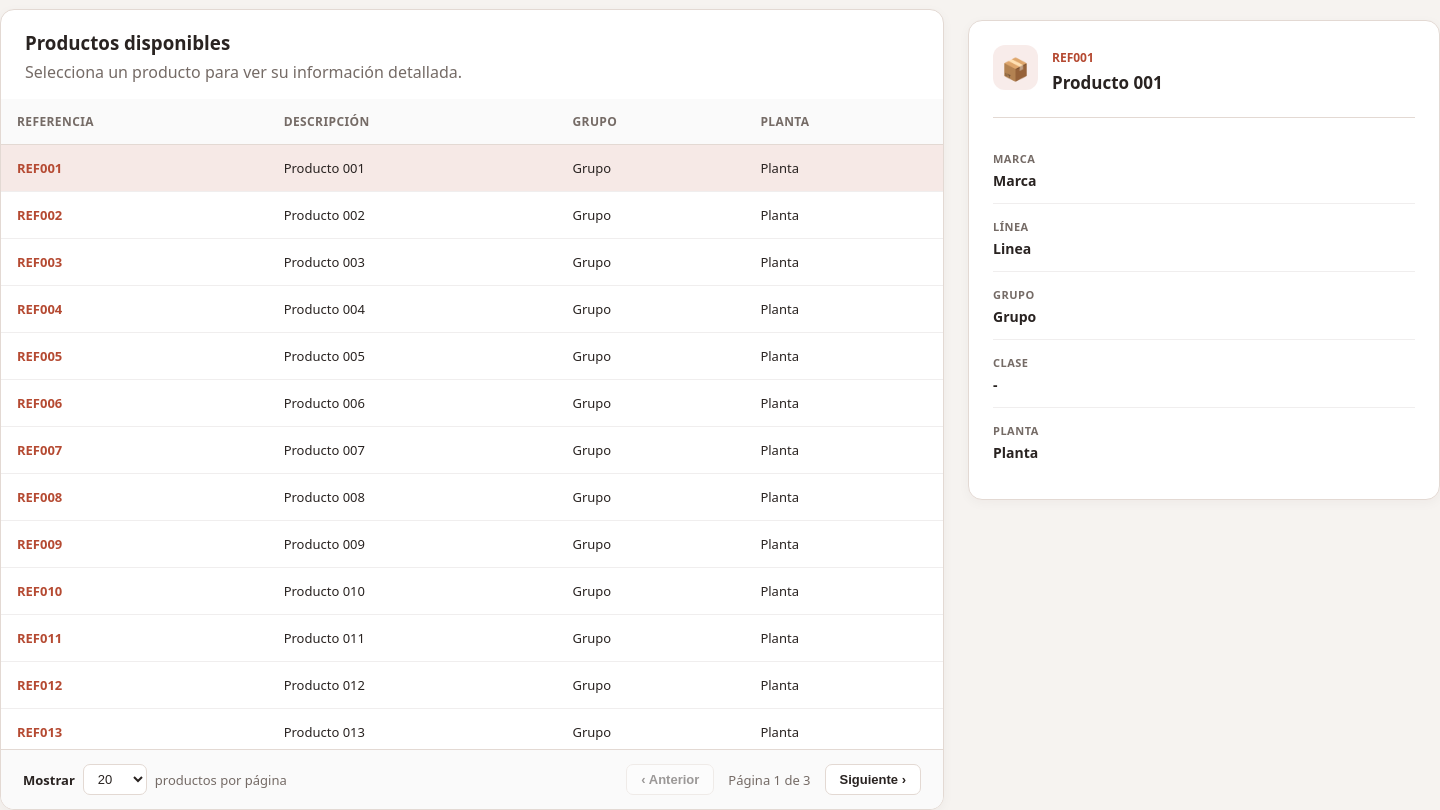
it: Productos › paginación › al cambiar el tamaño de página, actualiza la cantidad de filas y vuelve a la página 1
This screenshot has width=1440, height=810.
(page scrolled)
Click the button "Siguiente ›" at x=873, y=780, box [824, 764, 921, 795]
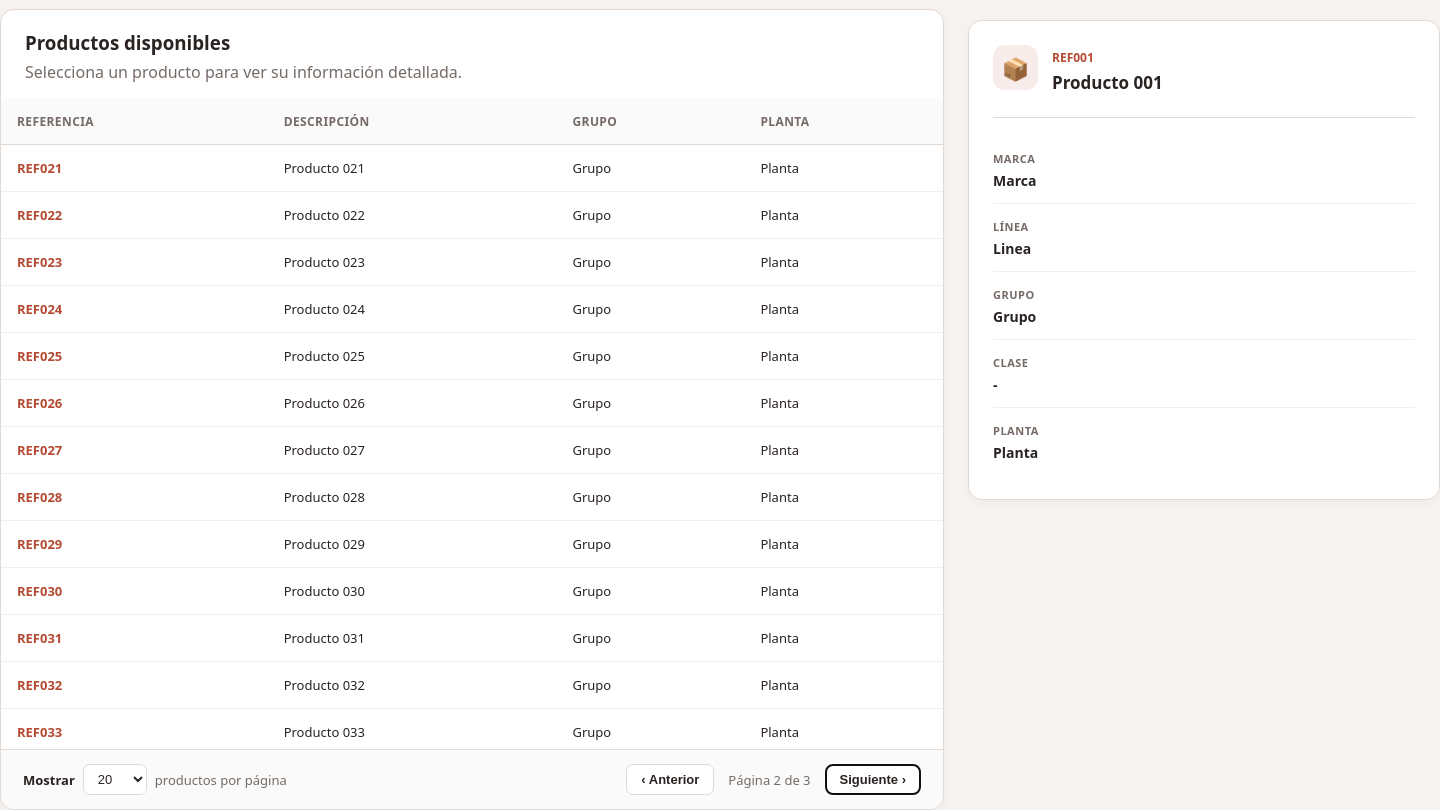
Now the text "Página 2 de 3" is shown, box [728, 770, 811, 788]
Select "50" in the dropdown labelled "Mostrar" at x=115, y=780, box [83, 764, 147, 795]
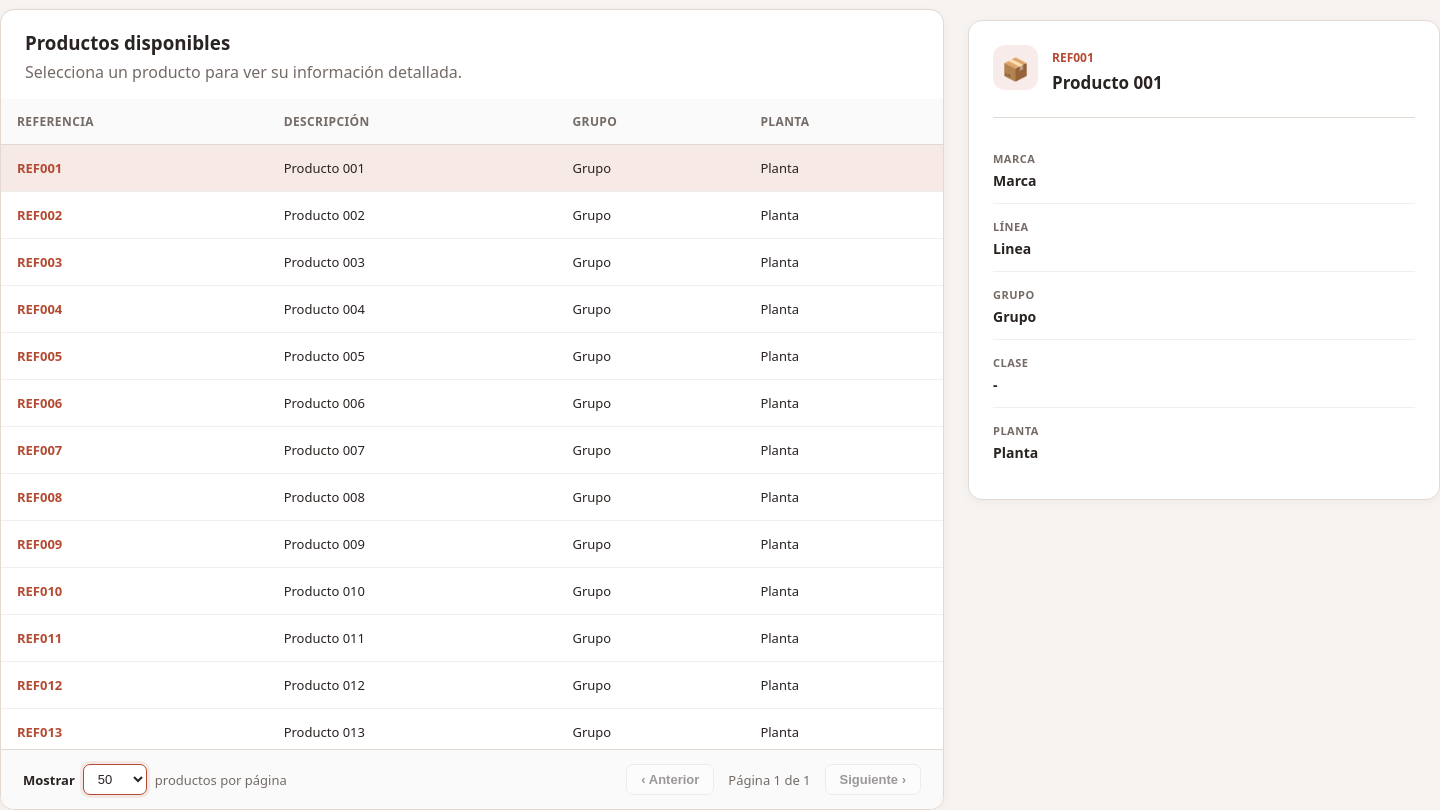
Now the text "Página 1 de 1" is shown, box [728, 770, 811, 788]
